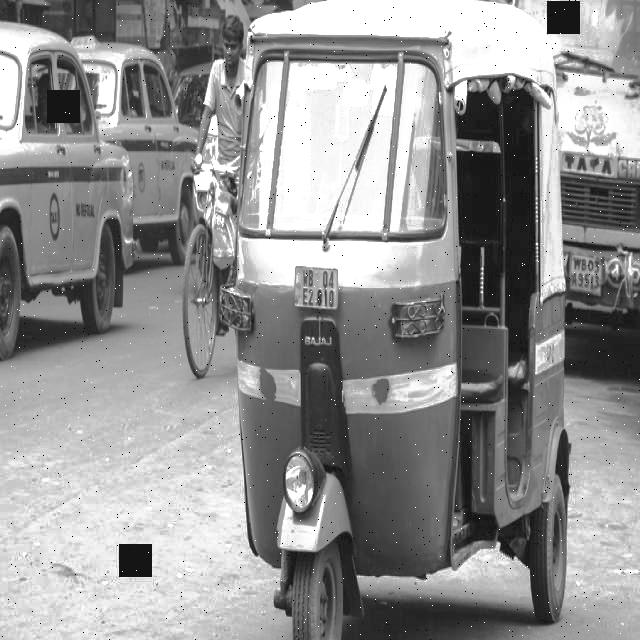Auto-Rickshaw: (200, 1, 603, 639)
